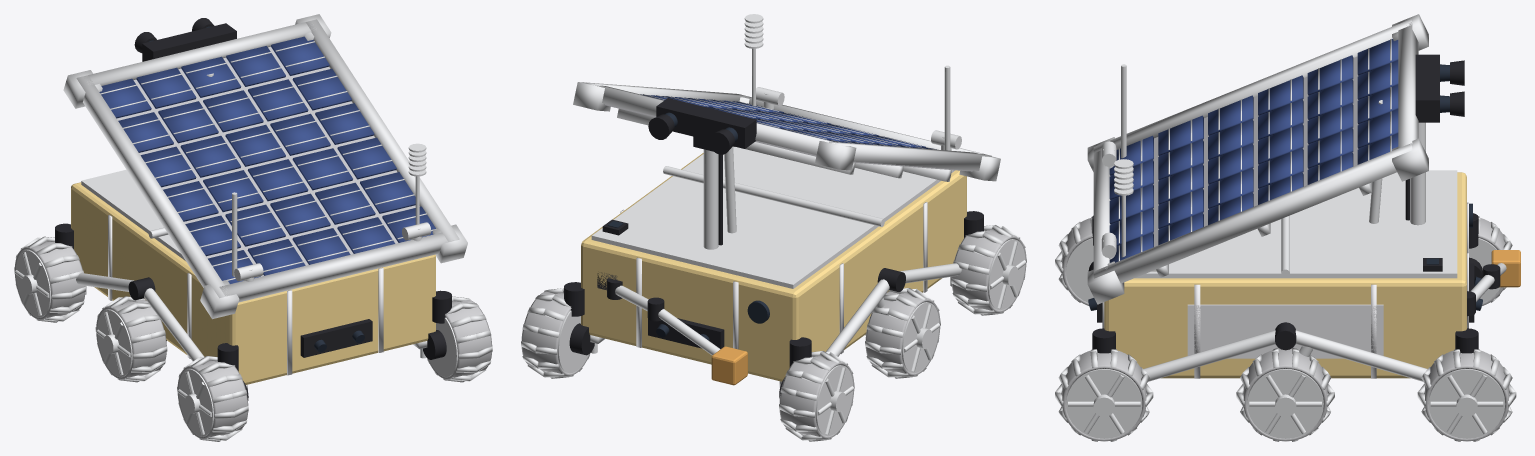
Rendered from rover.glb.
3 renders of one model, left to right at view 1: azimuth 30°, elevation 25°; view 2: azimuth 150°, elevation 25°; view 3: azimuth 270°, elevation 25°, orthographic. The views are drawn at different scales.
Parts seen in each view (by area): view 1: tilt_panel_cells, chassis, tilt_panel_frame, tilt_panel_substrate, tilt_panel_busbars, chassis_top_deck, wheel_ML_tyre, wheel_RL_tyre, wheel_FL_tyre, wheel_ML_flanges, wheel_FL_flanges, wheel_RL_flanges (+15 smaller); view 2: chassis, chassis_top_deck, tilt_panel_frame, tilt_panel_cells, navcam_bar, wheel_FL_tyre, wheel_ML_tyre, tilt_panel_back_ribs, wheel_RL_tyre, wheel_FL_flanges, wheel_RL_flanges, wheel_ML_flanges (+23 smaller); view 3: tilt_panel_cells, chassis, chassis_top_deck, tilt_panel_frame, radiator, wheel_MR_flanges, wheel_RR_flanges, wheel_FR_flanges, tilt_panel_busbars, tilt_panel_substrate, rocker_-1, bogie_front_-1 (+24 smaller).
Part boxes in pixels (x1=…): tilt_panel_cells: x1=99, y1=36, x2=435, y2=283; chassis: x1=71, y1=182, x2=435, y2=384; tilt_panel_frame: x1=63, y1=14, x2=467, y2=319; tilt_panel_substrate: x1=117, y1=46, x2=415, y2=276; tilt_panel_busbars: x1=100, y1=41, x2=436, y2=281; chassis_top_deck: x1=81, y1=169, x2=185, y2=260; wheel_ML_tyre: x1=96, y1=299, x2=166, y2=379; wheel_RL_tyre: x1=177, y1=360, x2=248, y2=439; wheel_FL_tyre: x1=14, y1=241, x2=85, y2=320; wheel_ML_flanges: x1=96, y1=309, x2=132, y2=376; wheel_FL_flanges: x1=15, y1=250, x2=51, y2=317; wheel_RL_flanges: x1=178, y1=369, x2=213, y2=436; chassis: x1=581, y1=153, x2=966, y2=381; chassis_top_deck: x1=591, y1=147, x2=954, y2=288; tilt_panel_frame: x1=573, y1=82, x2=1000, y2=181; tilt_panel_cells: x1=640, y1=94, x2=936, y2=149; navcam_bar: x1=656, y1=98, x2=756, y2=148; wheel_FL_tyre: x1=779, y1=356, x2=854, y2=439; wheel_ML_tyre: x1=865, y1=291, x2=940, y2=376; tilt_panel_back_ribs: x1=617, y1=108, x2=951, y2=181; wheel_RL_tyre: x1=951, y1=230, x2=1026, y2=313; wheel_FL_flanges: x1=815, y1=365, x2=853, y2=436; wheel_RL_flanges: x1=988, y1=239, x2=1025, y2=310; wheel_ML_flanges: x1=901, y1=302, x2=939, y2=373; tilt_panel_cells: x1=1109, y1=39, x2=1398, y2=262; chassis: x1=1104, y1=172, x2=1466, y2=378; chassis_top_deck: x1=1135, y1=170, x2=1457, y2=278; tilt_panel_frame: x1=1087, y1=14, x2=1428, y2=304; radiator: x1=1187, y1=304, x2=1383, y2=358; wheel_MR_flanges: x1=1247, y1=369, x2=1323, y2=438; wheel_RR_flanges: x1=1066, y1=369, x2=1142, y2=438; wheel_FR_flanges: x1=1428, y1=369, x2=1505, y2=438; tilt_panel_busbars: x1=1118, y1=39, x2=1391, y2=260; tilt_panel_substrate: x1=1153, y1=56, x2=1358, y2=246; rocker_-1: x1=1143, y1=330, x2=1275, y2=381; bogie_front_-1: x1=1295, y1=330, x2=1427, y2=381.
Bounding box in the file's own units: 0.76 × 0.6652 × 0.9504.
